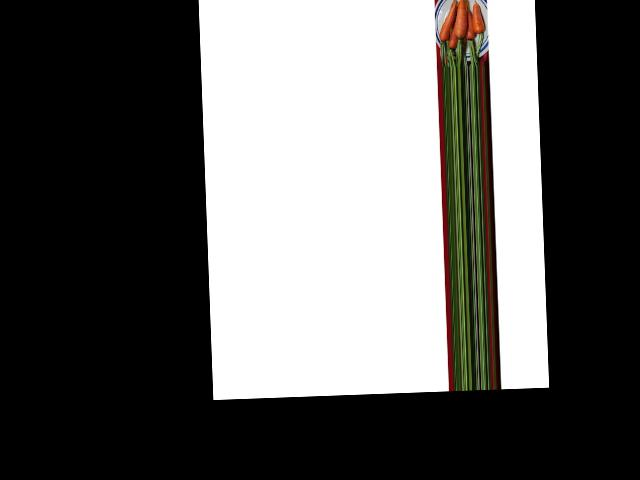carrot: (470, 2, 487, 37)
